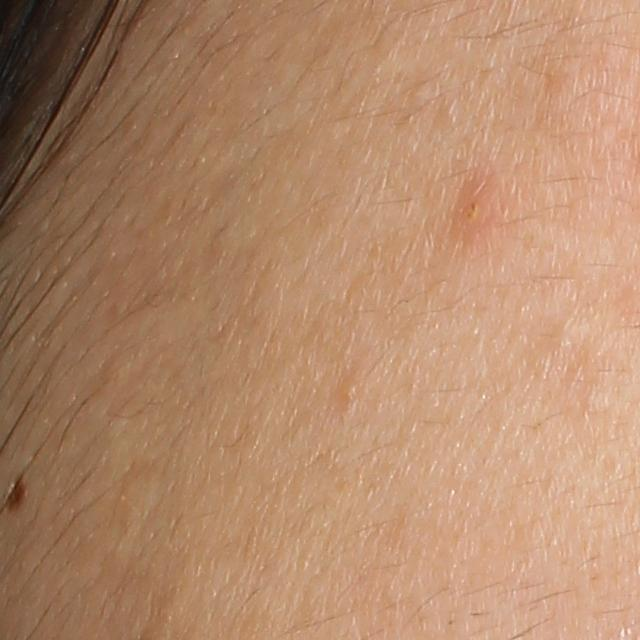comedo: (407, 81, 433, 105), (343, 377, 360, 400)
